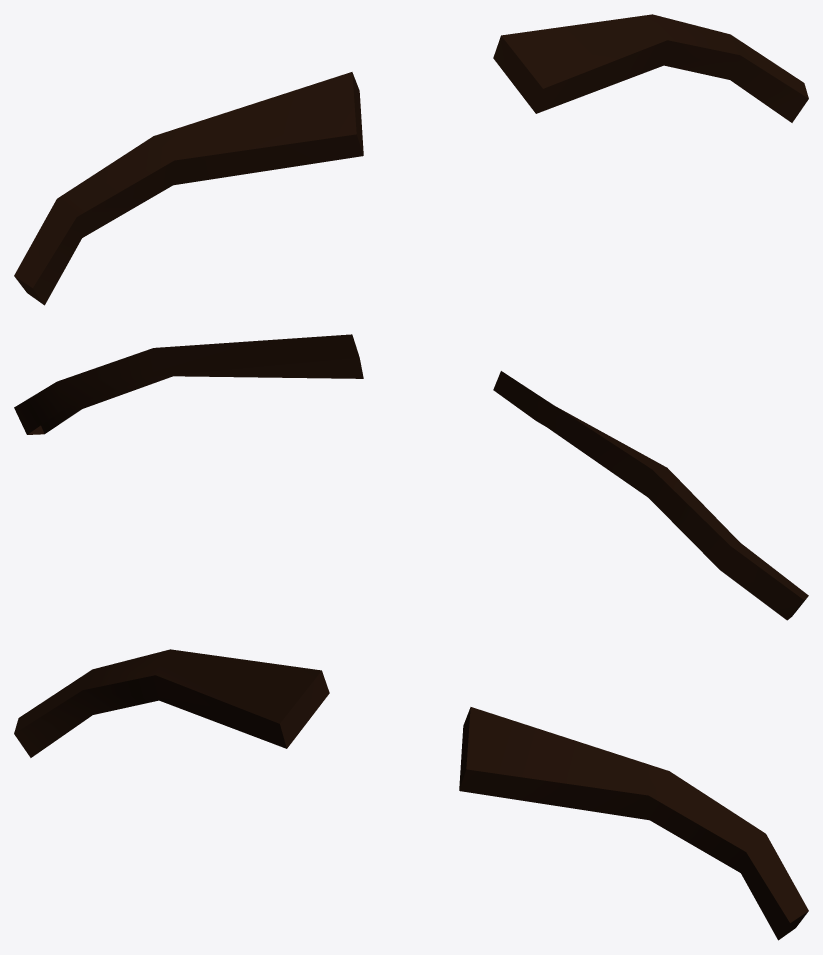
The model's file is Brow 15.FBX.
3 renders of one model, top to bottom at view 1: azimuth 30°, elevation 25°; view 2: azimuth 150°, elevation 25°; view 3: azimuth 330°, elevation 25°, orthographic.
Parts seen in each view (by area): view 1: Brow 15; view 2: Brow 15; view 3: Brow 15.
Boxes of the visible parts, <box> form: Brow 15: <box>14,14,808,305</box>; Brow 15: <box>14,334,808,620</box>; Brow 15: <box>14,649,808,940</box>.
Size of the model in its own units: 22.49 by 2.88 by 4.54.
